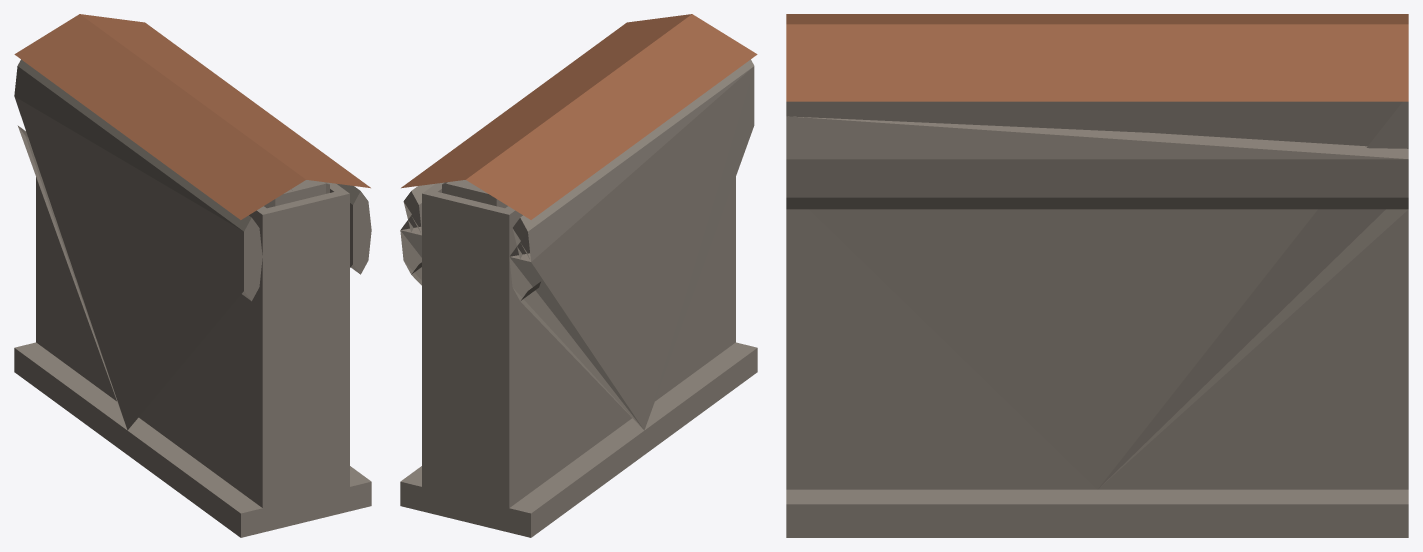
Rendered from adaptive_narrow_colored.glb.
3 views of the same model, side by side, from view 1: azimuth 30°, elevation 25°; view 2: azimuth 150°, elevation 25°; view 3: azimuth 270°, elevation 25° (orthographic). The views are drawn at different scales.
Visible parts, largest first — view 1: world; view 2: world; view 3: world.
Boxes of the visible parts, x1,y1,x2,y2 form: world: [14, 14, 371, 537]; world: [400, 14, 757, 537]; world: [786, 14, 1408, 537].
Size of the model in its own units: 4 by 10 by 12.
